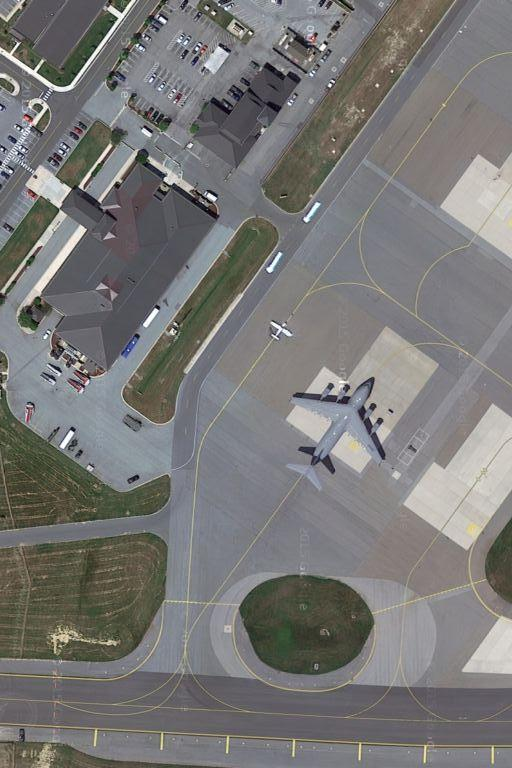C-17: (285, 372, 387, 498)
